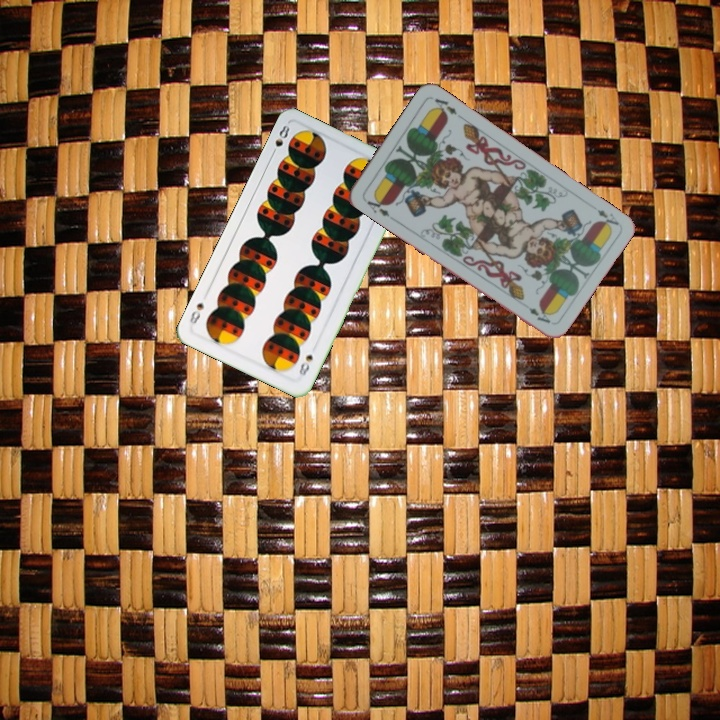EA: (360, 191, 396, 223), (593, 205, 621, 231)
S8: (267, 121, 292, 159), (295, 350, 315, 379)
